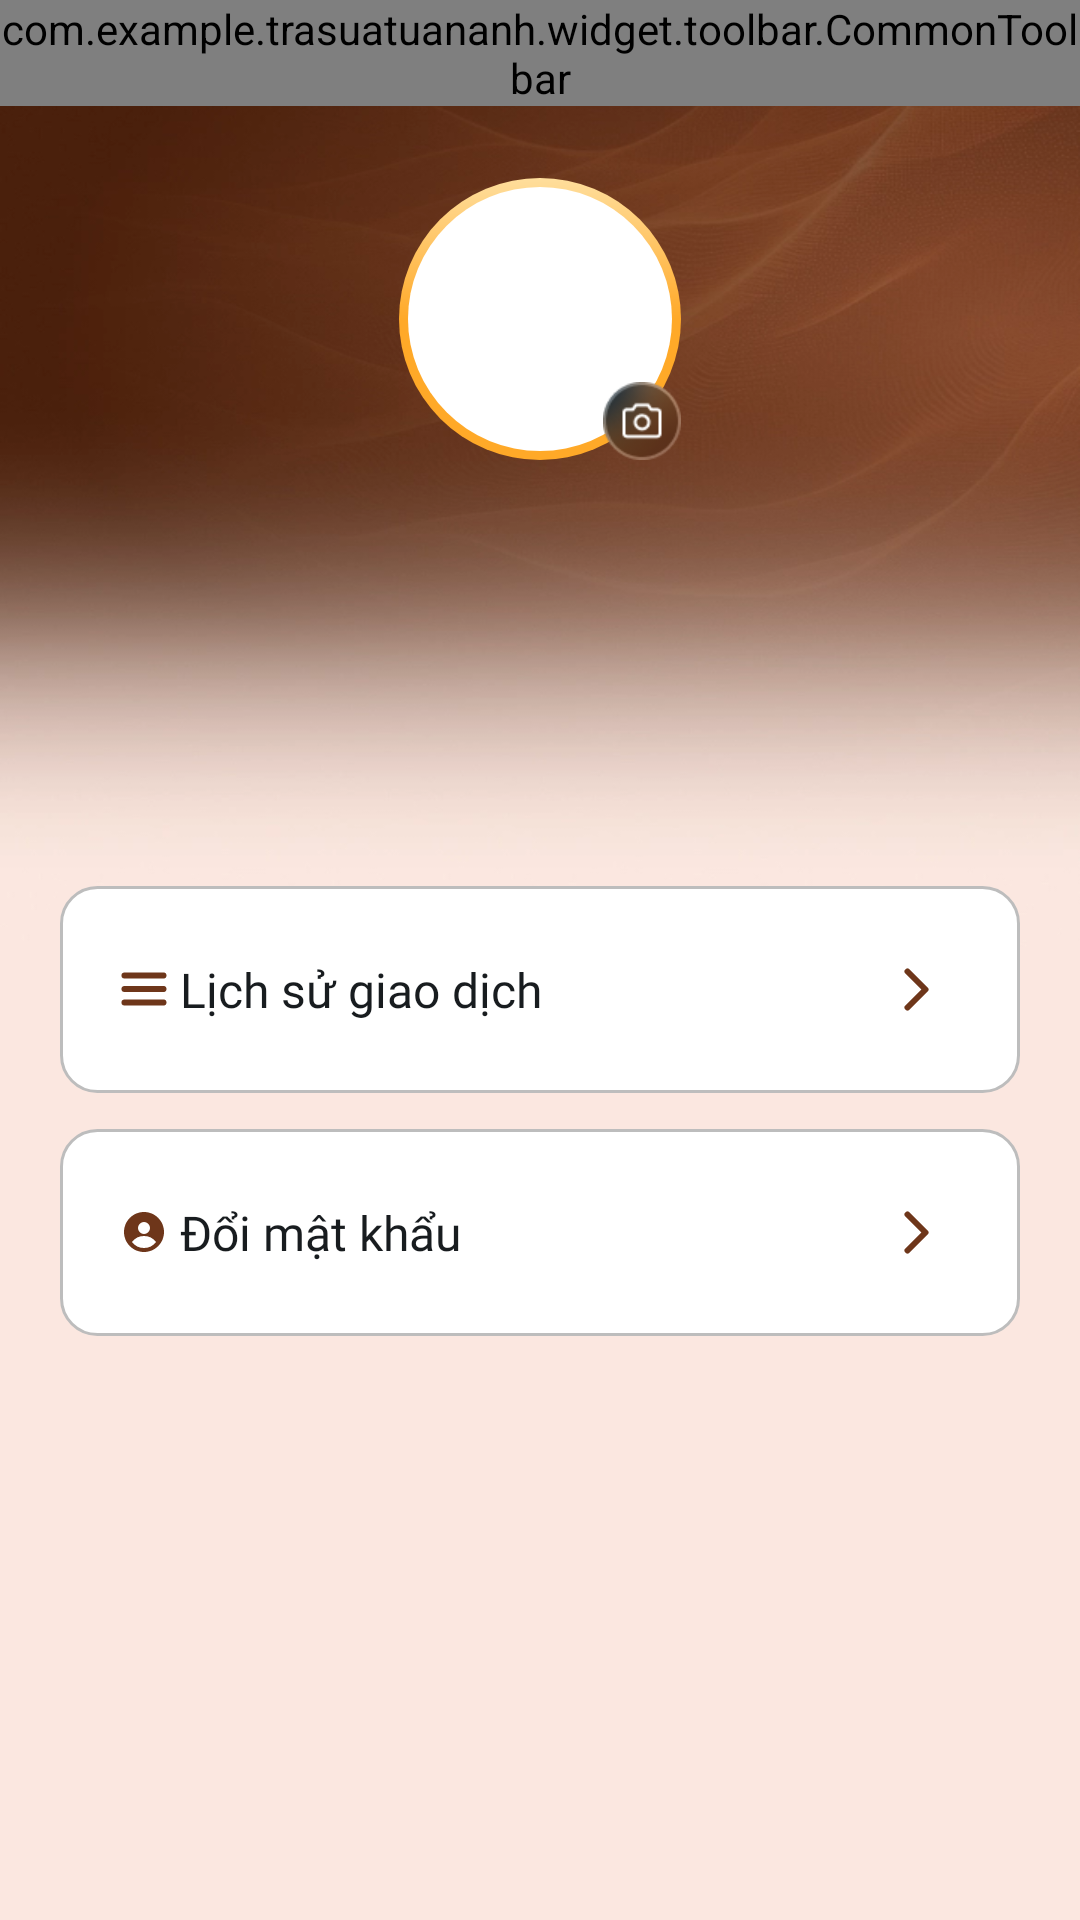

Where to tap for icons on this 1080 × 1920 app screen, as point (x, y):
camera rounded: point (642, 421)
list food: point (144, 989)
right: point (916, 989), point (916, 1232)
user: point (144, 1232)
